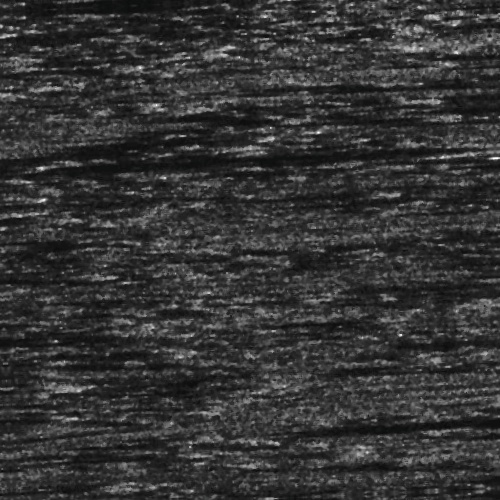object: (396, 148, 500, 167), (0, 201, 122, 214), (57, 262, 140, 271), (8, 374, 113, 381), (0, 195, 64, 204), (78, 473, 151, 480), (0, 74, 42, 83), (0, 181, 54, 188), (159, 0, 232, 5)
shadow: (0, 148, 500, 167), (356, 420, 500, 441), (361, 293, 500, 302), (0, 262, 98, 271), (0, 473, 114, 480), (0, 201, 50, 214), (77, 0, 195, 5), (0, 374, 61, 381), (466, 69, 500, 78), (443, 62, 500, 67), (0, 181, 22, 188)
